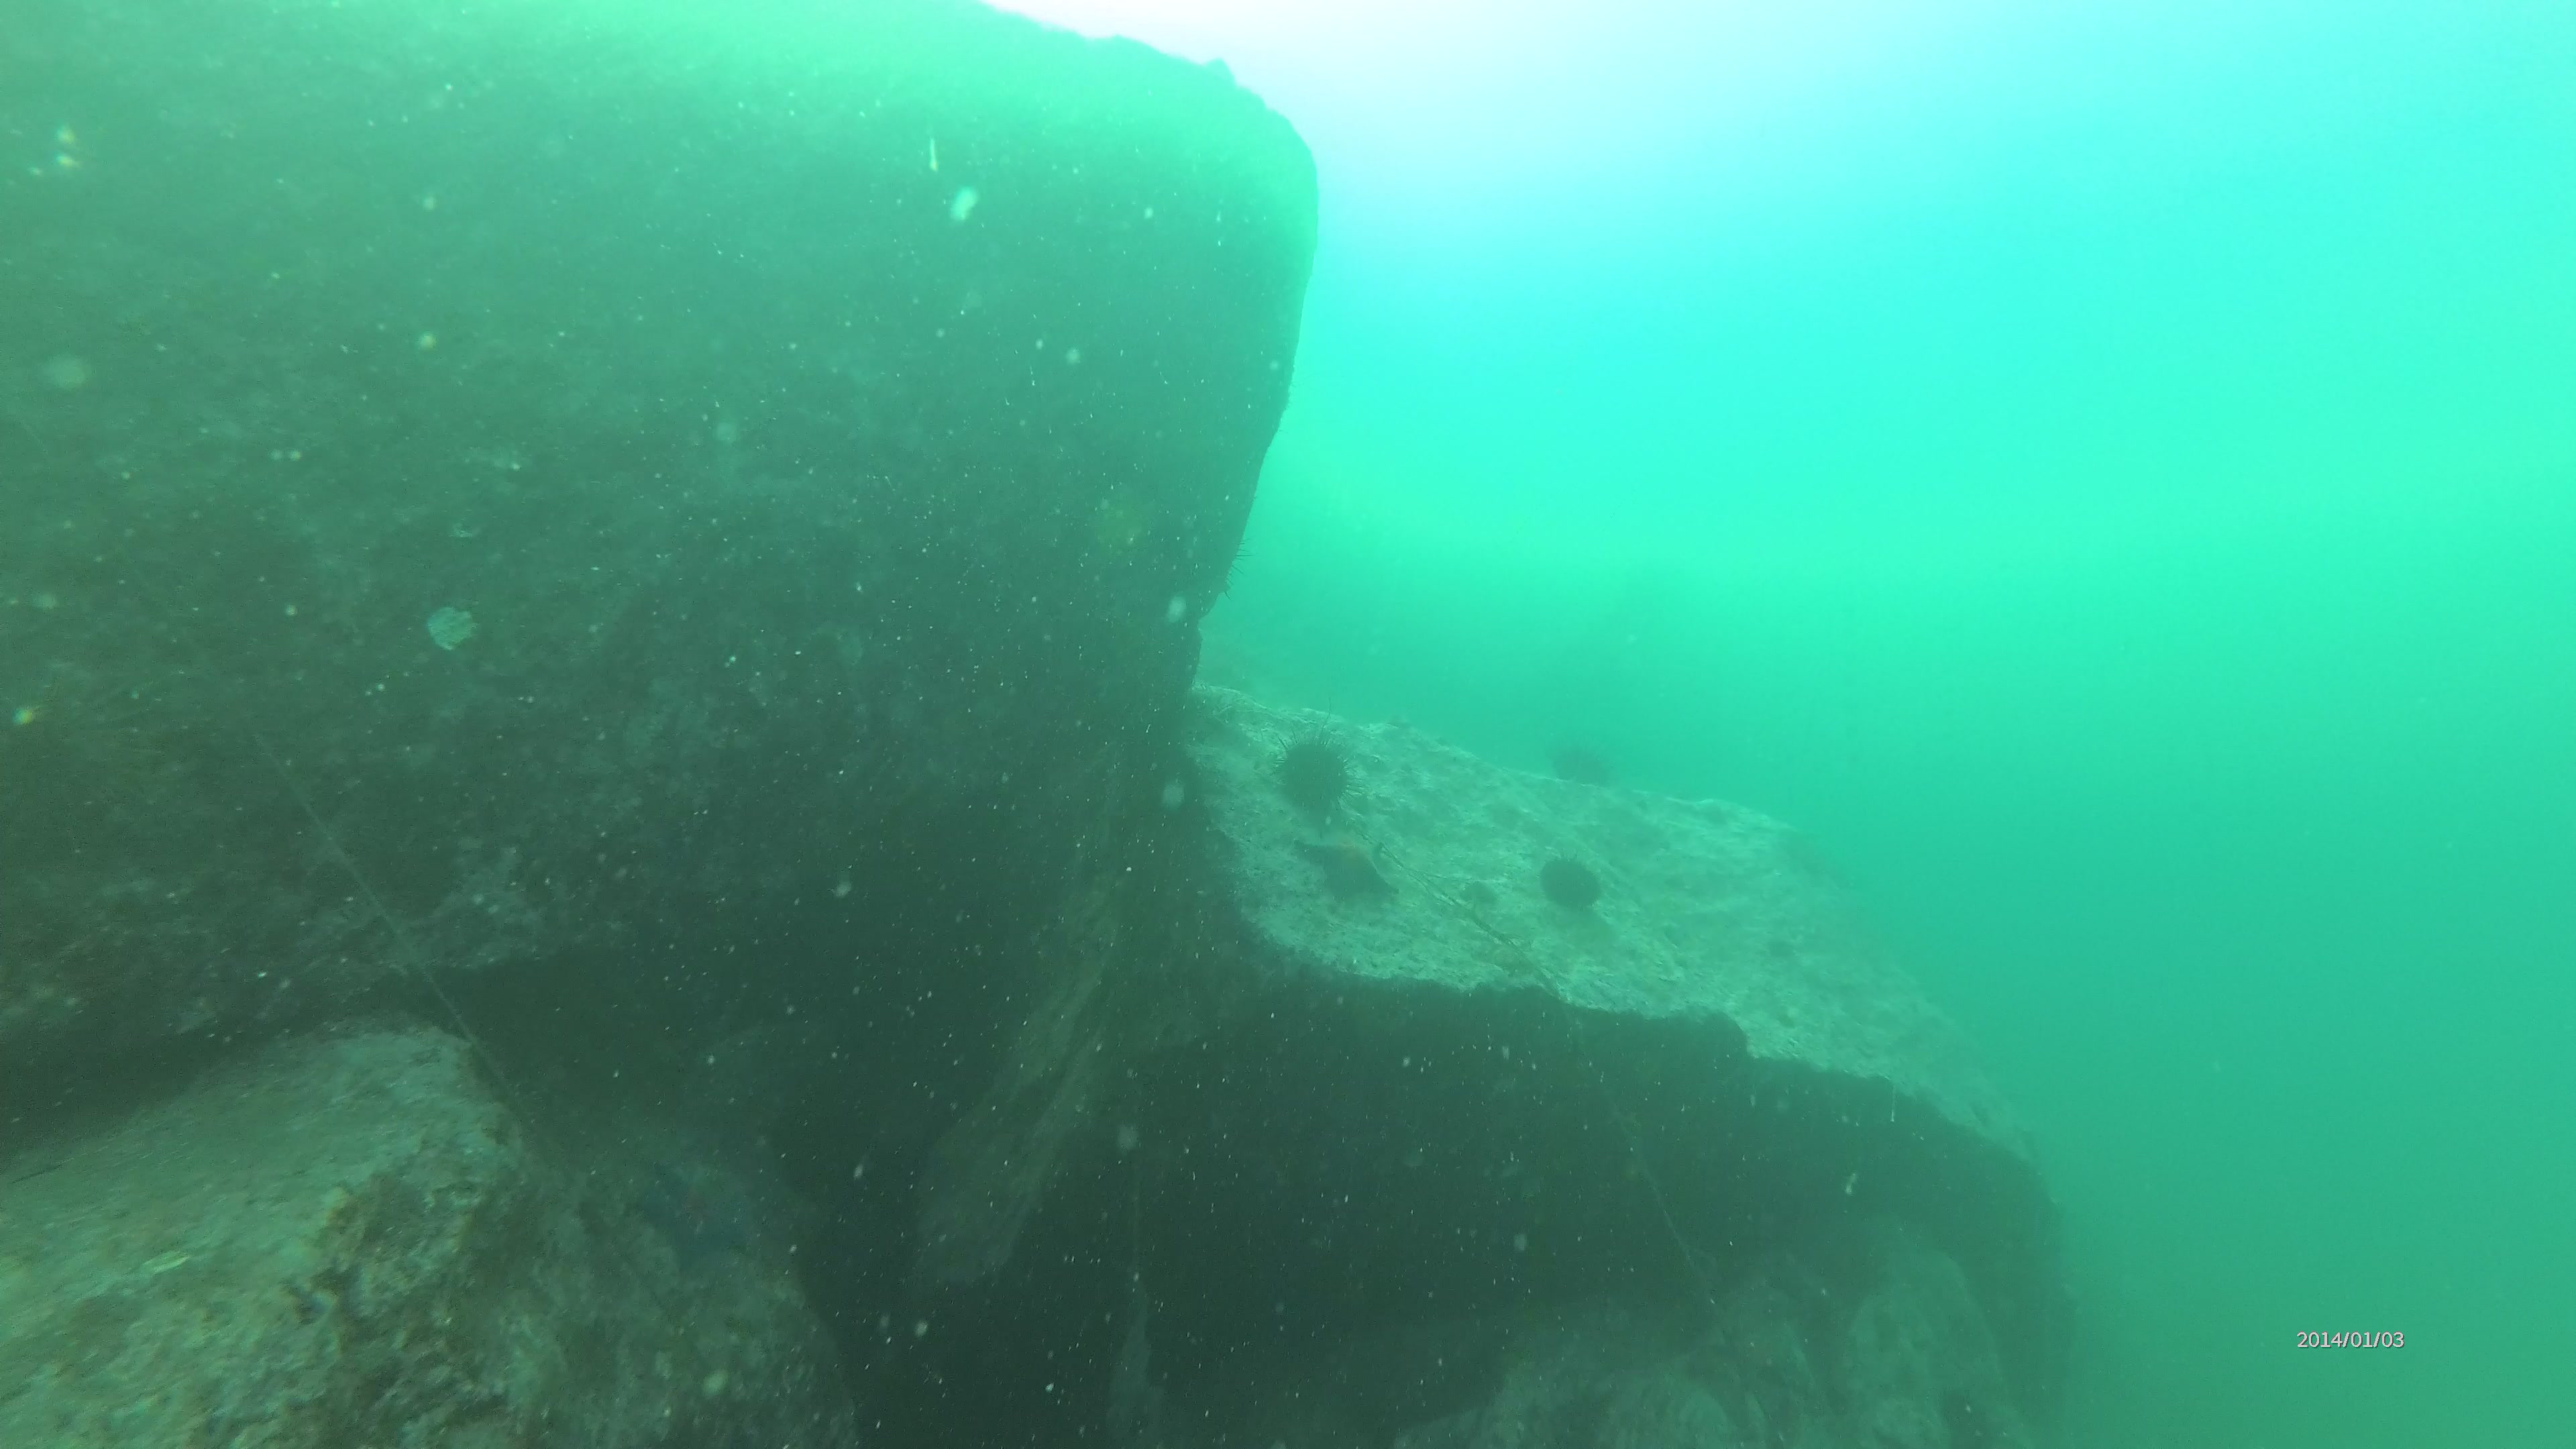echinus: (1263, 713, 1376, 828), (1534, 837, 1619, 922)
